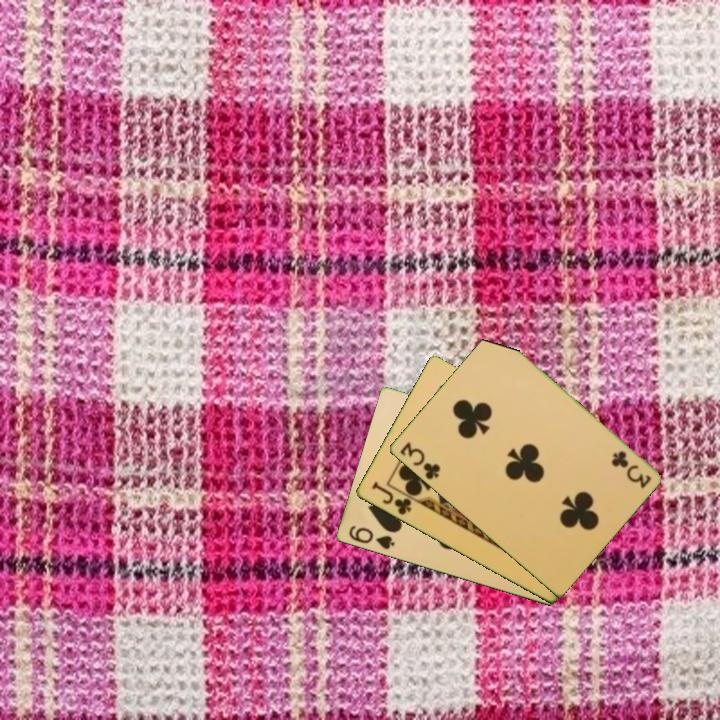3c: (396, 438, 443, 483), (608, 447, 654, 491)
6s: (345, 522, 397, 553)
Jc: (368, 478, 414, 518)
